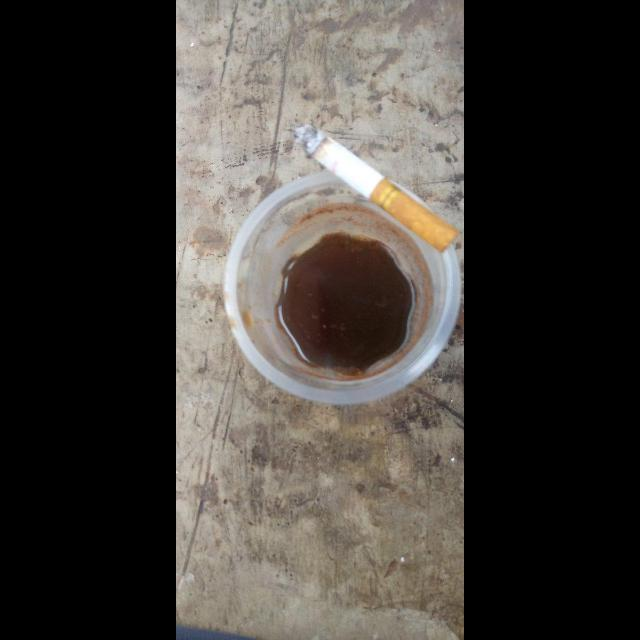rokok: (303, 120, 461, 256)
